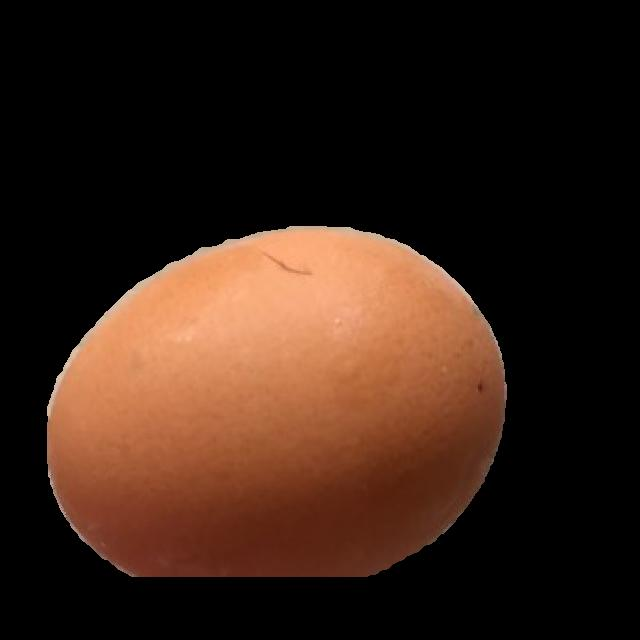eggs: (53, 228, 505, 576)
